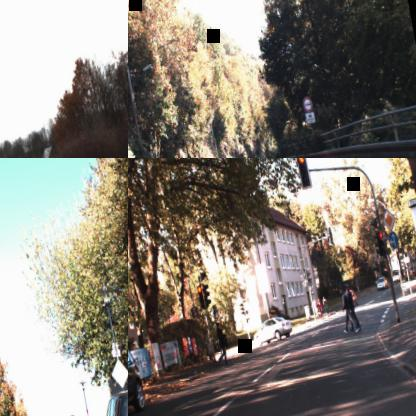go left: (386, 230, 399, 248)
no overtaking (trucks): (301, 95, 313, 112)
priority road: (107, 356, 128, 389), (380, 206, 397, 232)
